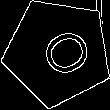O_SW: (25, 21, 91, 83)
